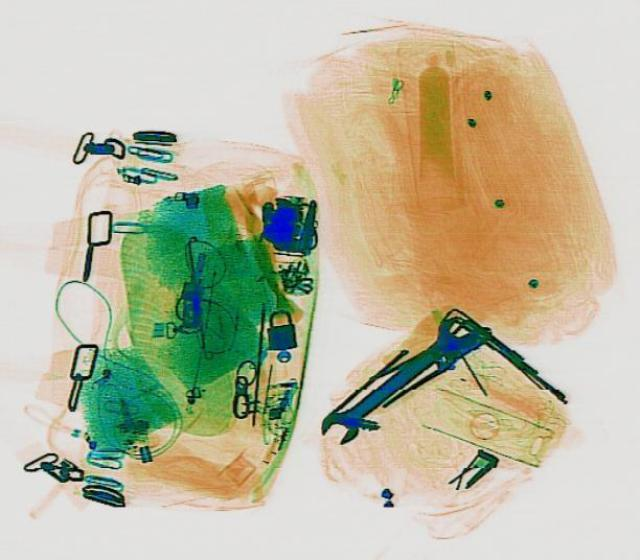Wrench: (310, 308, 482, 449)
